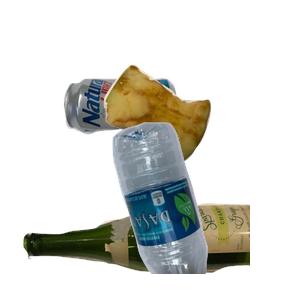glass: (21, 201, 261, 300)
metal: (61, 75, 231, 202)
plastic: (110, 120, 300, 300)
trash: (101, 62, 300, 217)
